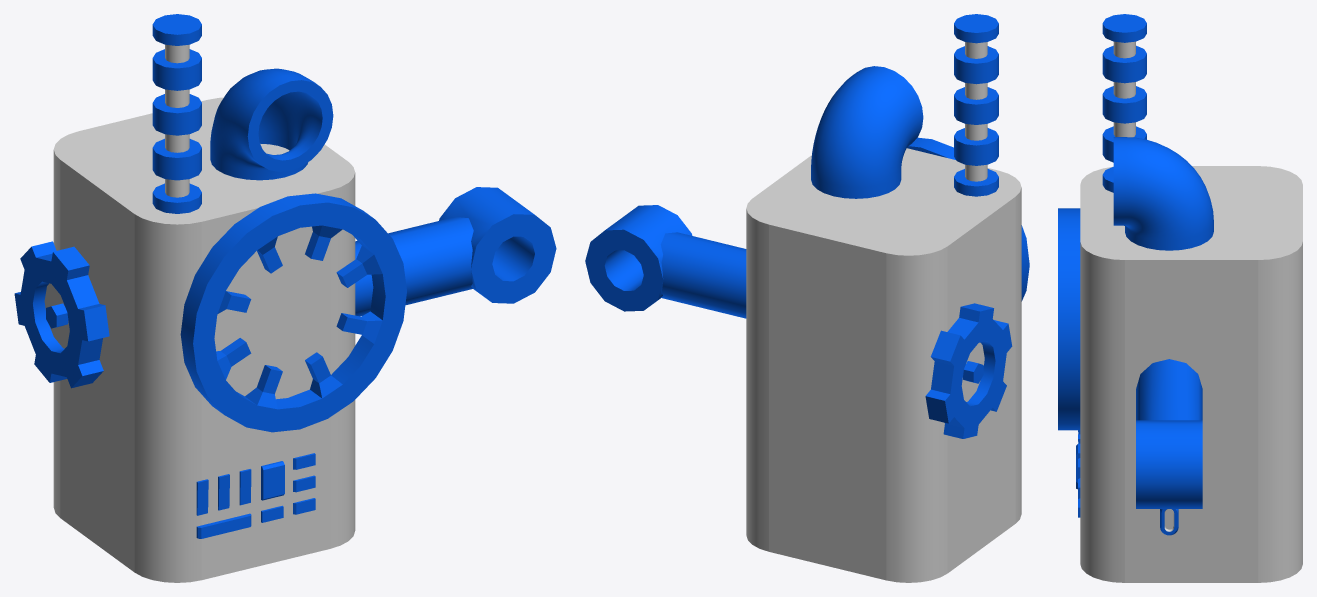
File: module_generic.fbx
3 renders of one model, left to right at view 1: azimuth 30°, elevation 25°; view 2: azimuth 150°, elevation 25°; view 3: azimuth 270°, elevation 25°, orthographic. The views are drawn at different scales.
Visible parts, largest first — view 1: cylinderSquare, ring_innerExtended, piston_short, pipe_smallBend, cog_smallBasicClosed, tube_steel, detail_panelsC, detail_panelsB; view 2: cylinderSquare, piston_short, pipe_smallBend, cog_smallBasicClosed, tube_steel, ring_innerExtended; view 3: cylinderSquare, piston_short, pipe_smallBend, tube_steel, ring_innerExtended, detail_ventStretched.
Part boxes in pixels (<box>): cylinderSquare: <box>53,97,355,582</box>; ring_innerExtended: <box>180,193,406,432</box>; piston_short: <box>355,187,556,316</box>; pipe_smallBend: <box>210,68,333,180</box>; cog_smallBasicClosed: <box>14,241,109,388</box>; tube_steel: <box>152,14,201,213</box>; detail_panelsC: <box>196,469,251,538</box>; detail_panelsB: <box>261,453,315,522</box>; cylinderSquare: <box>746,148,1021,582</box>; piston_short: <box>585,205,746,318</box>; pipe_smallBend: <box>811,66,923,198</box>; cog_smallBasicClosed: <box>925,303,1012,438</box>; tube_steel: <box>954,14,998,196</box>; ring_innerExtended: <box>907,137,1029,301</box>; cylinderSquare: <box>1080,166,1302,582</box>; piston_short: <box>1136,359,1202,508</box>; pipe_smallBend: <box>1113,137,1213,250</box>; tube_steel: <box>1102,14,1146,192</box>; ring_innerExtended: <box>1058,208,1080,430</box>; detail_ventStretched: <box>1160,509,1178,535</box>.
Bounding box in the file's own units: 21 × 24 × 11.
